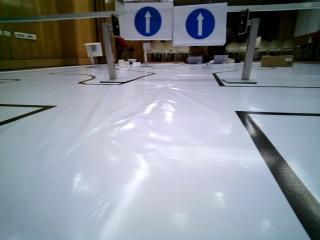straight: (176, 3, 227, 45), (125, 0, 175, 42)
